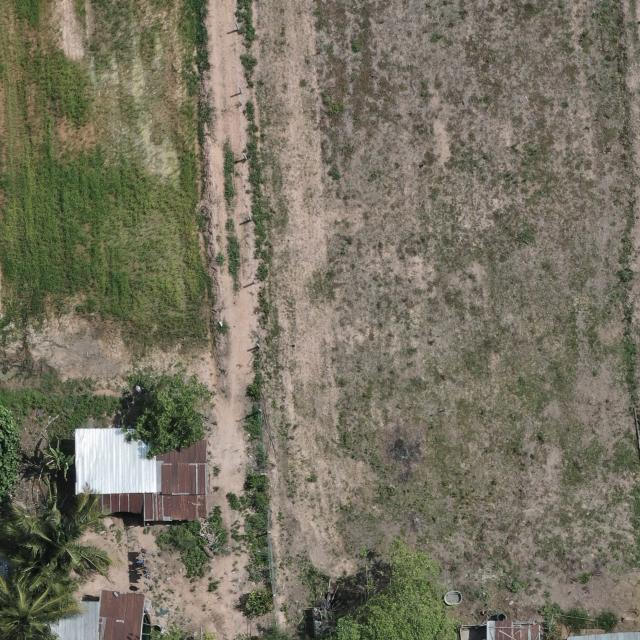Tree: (336, 537, 463, 640), (2, 483, 113, 588), (0, 562, 89, 640), (121, 386, 205, 460)
